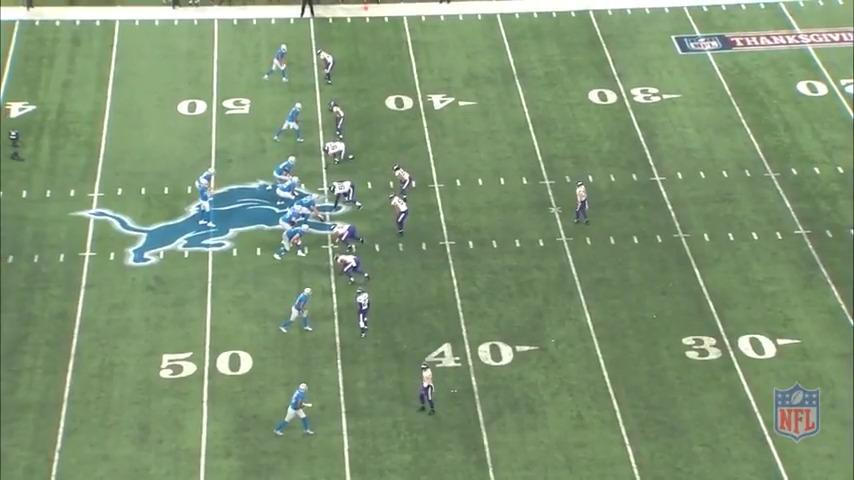player: (272, 381, 318, 439), (279, 287, 316, 338), (273, 100, 307, 146), (274, 222, 312, 262), (416, 363, 440, 419), (263, 43, 294, 86), (192, 180, 217, 232), (333, 253, 371, 285), (355, 288, 376, 341), (269, 155, 299, 192), (329, 222, 366, 251), (387, 193, 410, 239), (330, 180, 365, 210), (275, 176, 303, 212), (321, 140, 357, 168), (328, 99, 349, 145), (296, 193, 327, 224), (571, 181, 591, 228), (391, 164, 414, 203), (316, 48, 338, 88), (278, 206, 305, 231), (194, 167, 218, 191)
